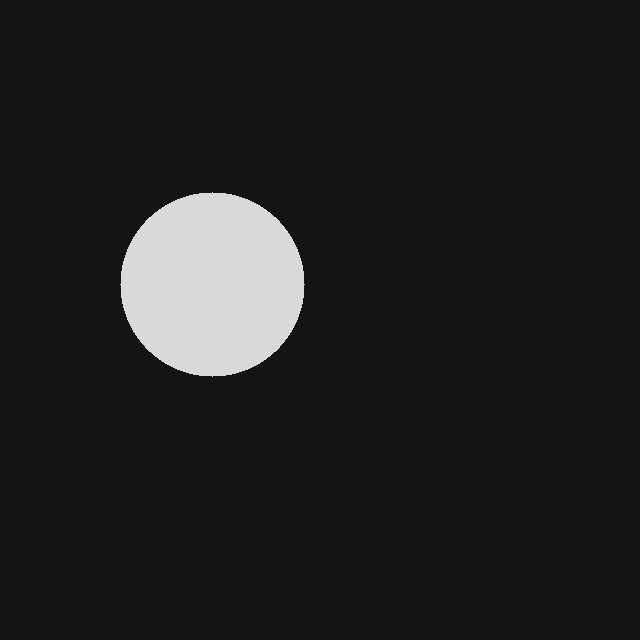circle: (120, 192, 304, 376)
